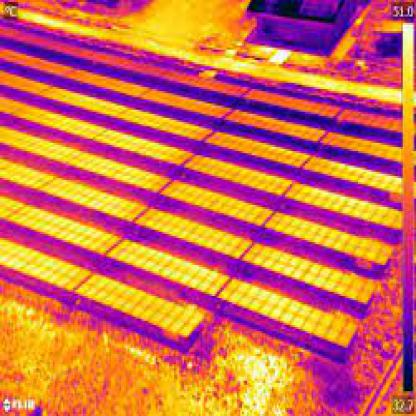Defects: (273, 46, 287, 69)
